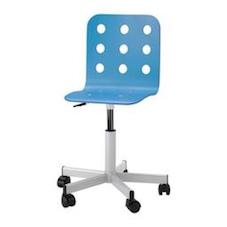chair: (13, 9, 208, 217)
